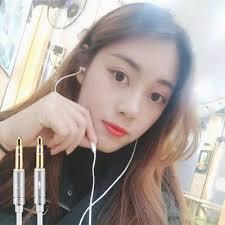earphone: (75, 63, 85, 75)
